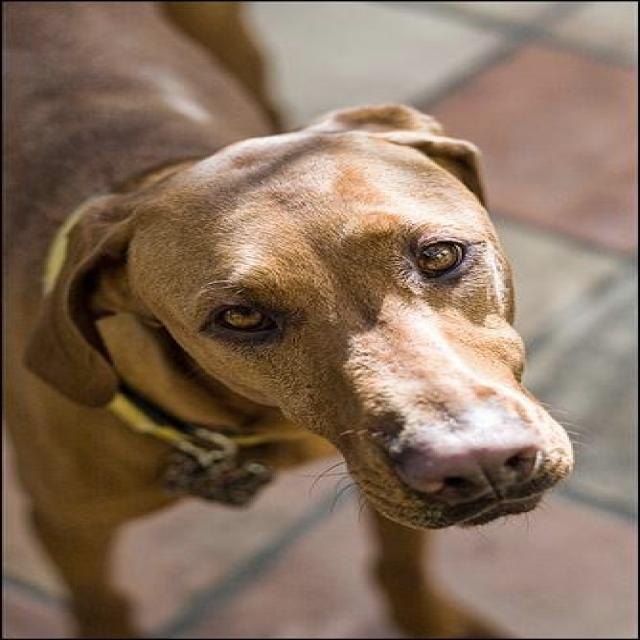vizsla: (2, 0, 577, 637)
